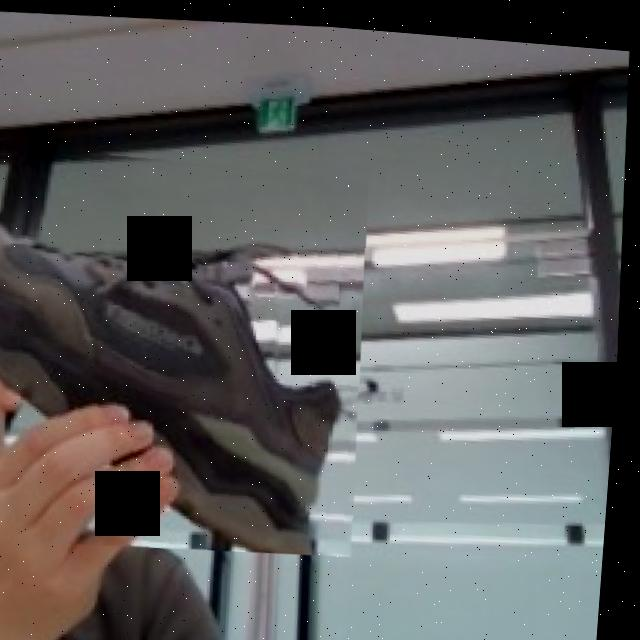shoe: (0, 129, 384, 563)
